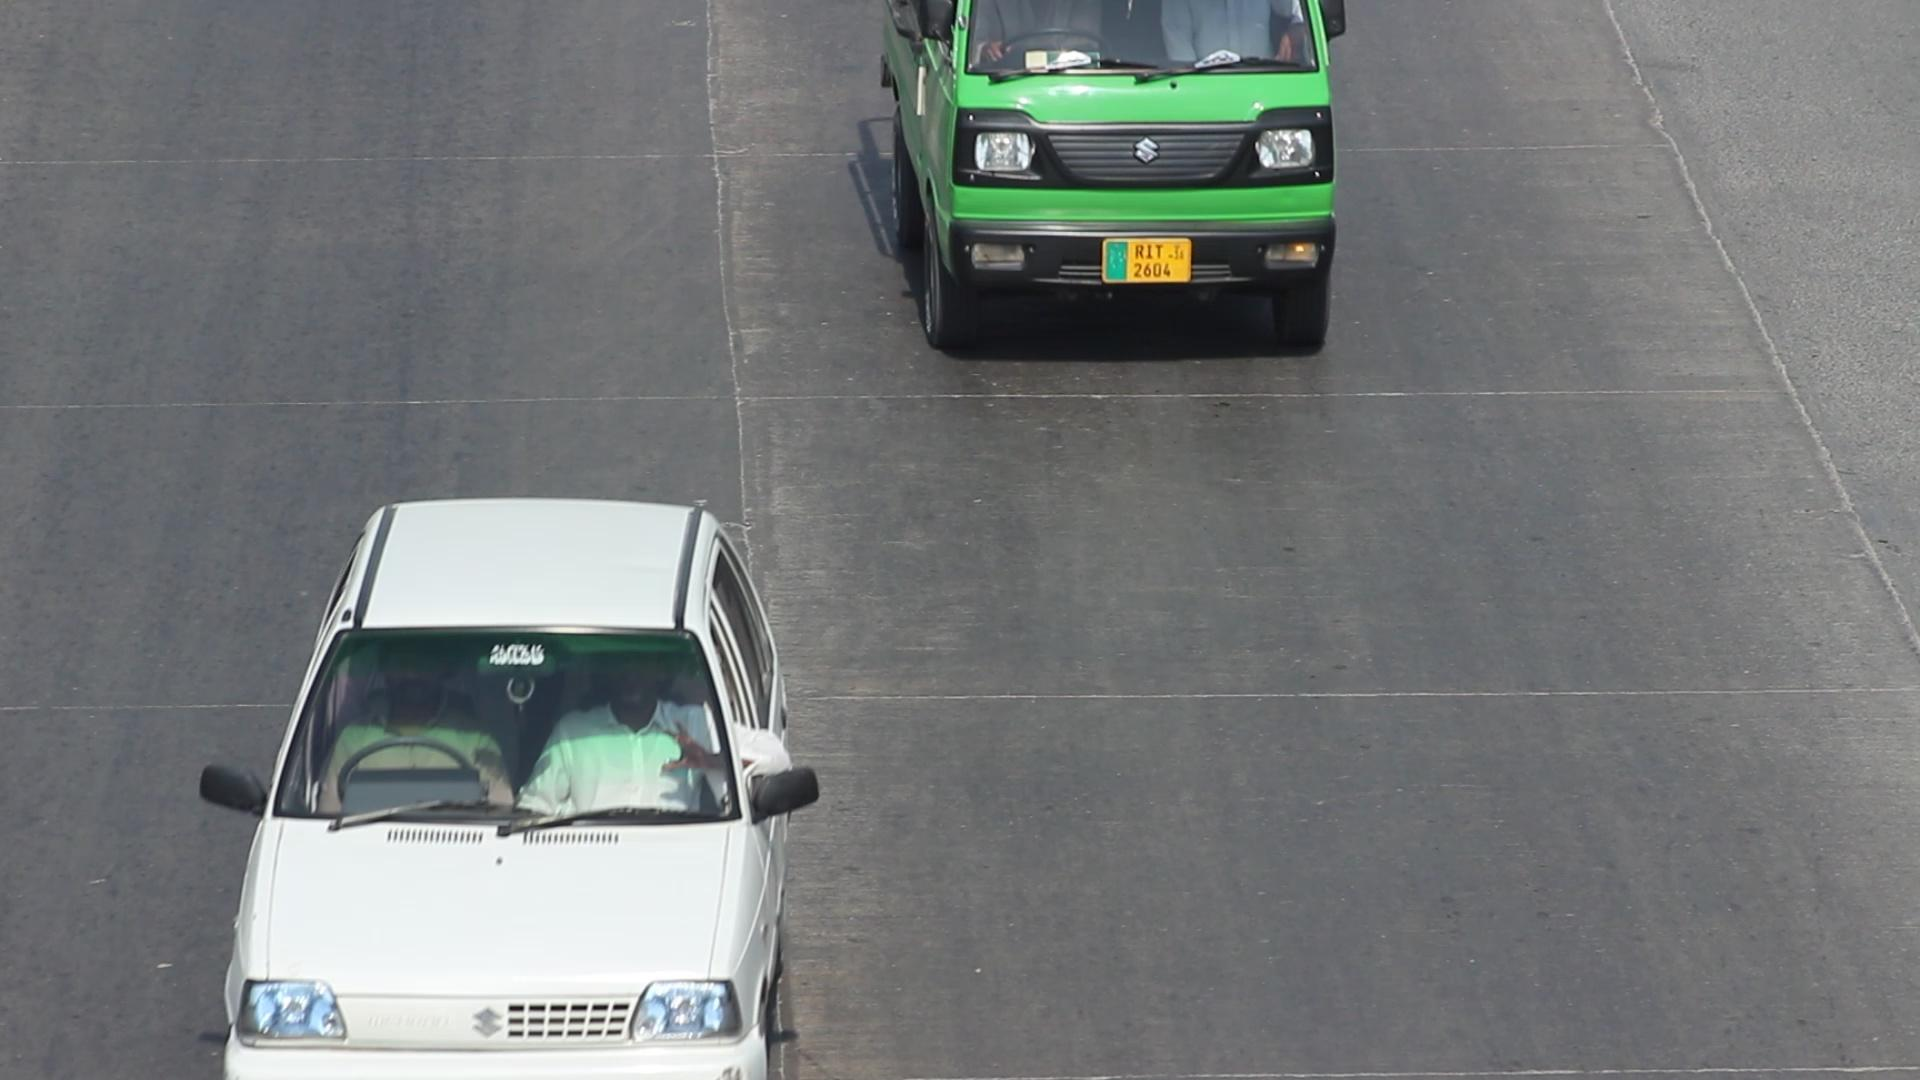windshield: (264, 607, 750, 840)
